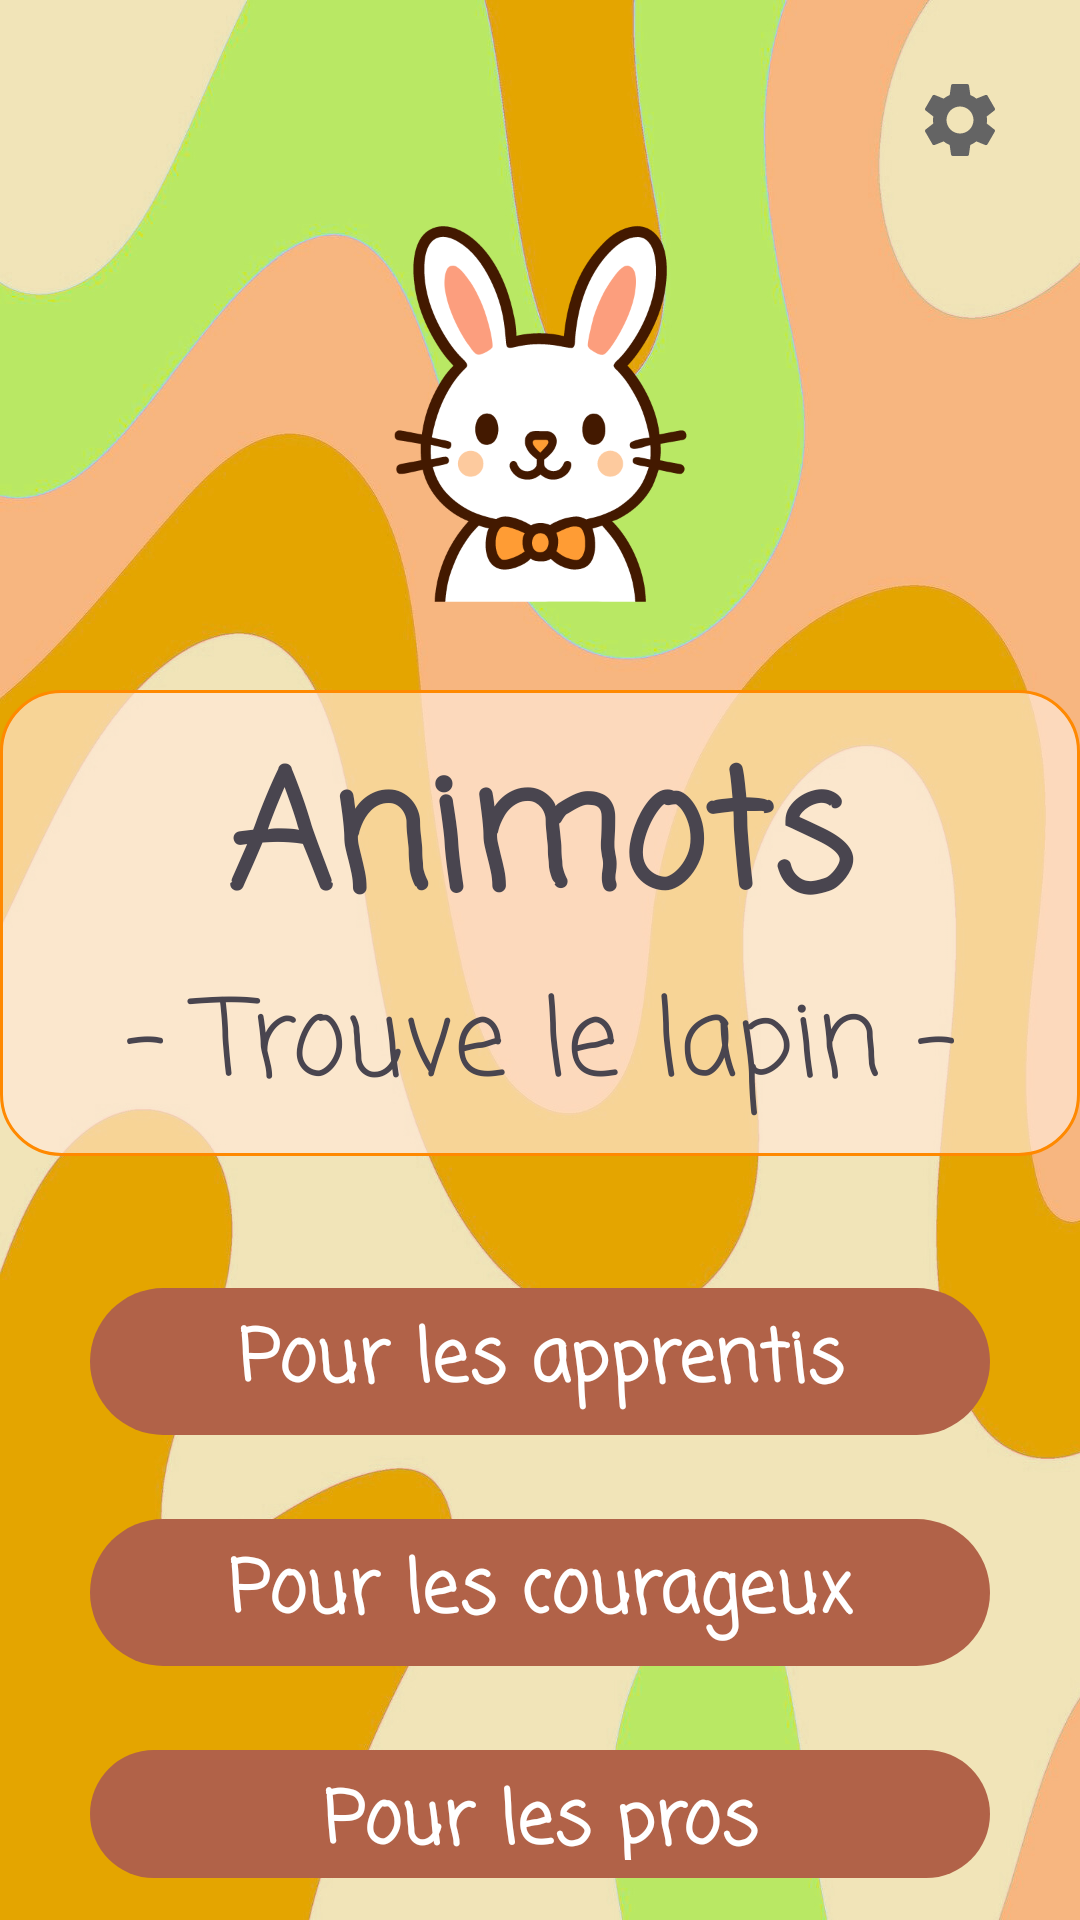

Icons on this 1080*1920 Android screen, each with the point to tap as (x,y):
Parameters: (960,120)
